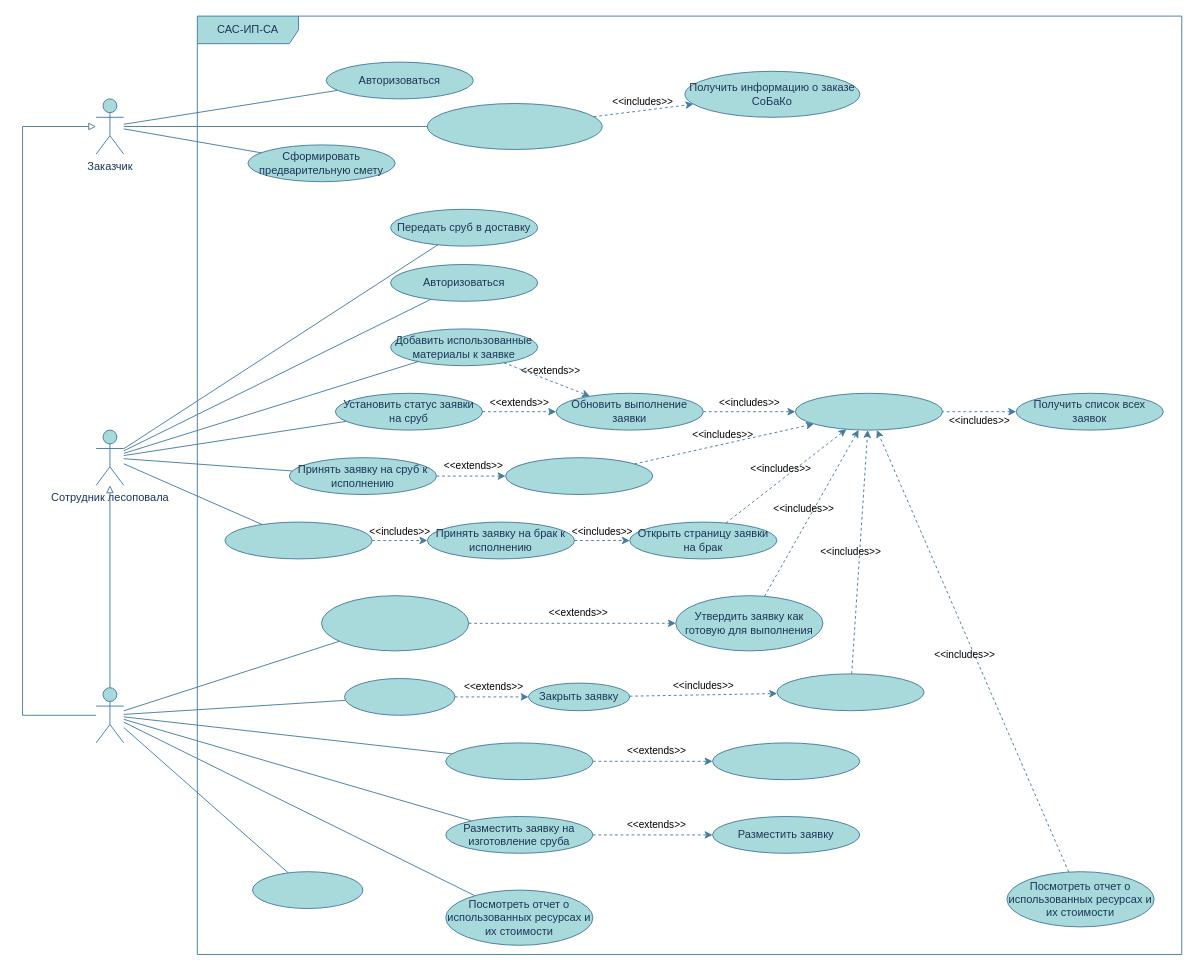
Some shapes in this 1198 by 971 pixel diagram are drawn without their labels. The shapes that lost their labels are listed below. From the top down, each one's centre as x and y in pixels, then its label:
(514,126): Внести изменения в заказ на СаБаКо
(868,411): Просмотреть заявку
(579,475): Принять заявку к исполнению
(298,540): Установить статус заявки на брак
(395,623): Утвердить заявку на сруб как готовую для выполнения
(399,696): Закрыть заявку на сруб
(850,692): Отследить прогресс выполнения заявки
(109,715): Сотрудник отдела сопровождения заказов
(519,761): Создать заявку на исправление брака сруба
(786,761): Создать заявку на исправление брака
(307,889): Создать клиентский аккаунт
